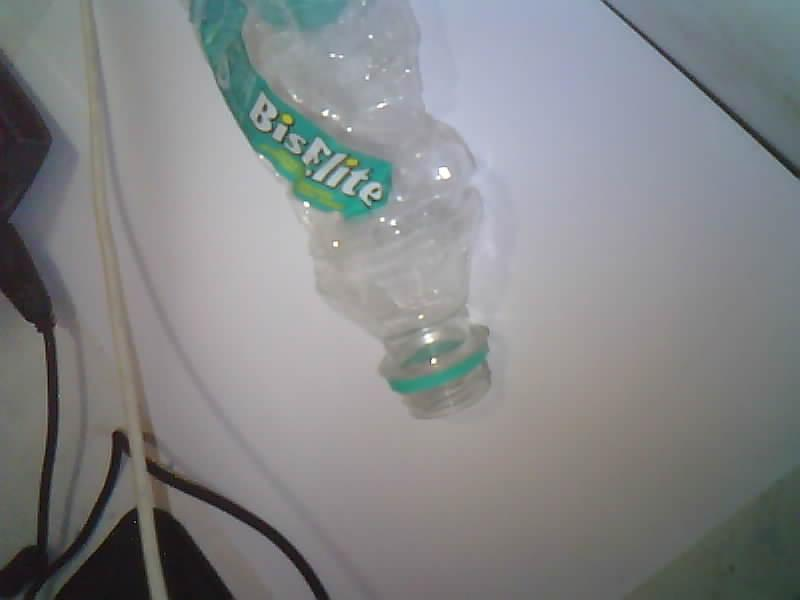non-biodegradable: (187, 0, 489, 417)
